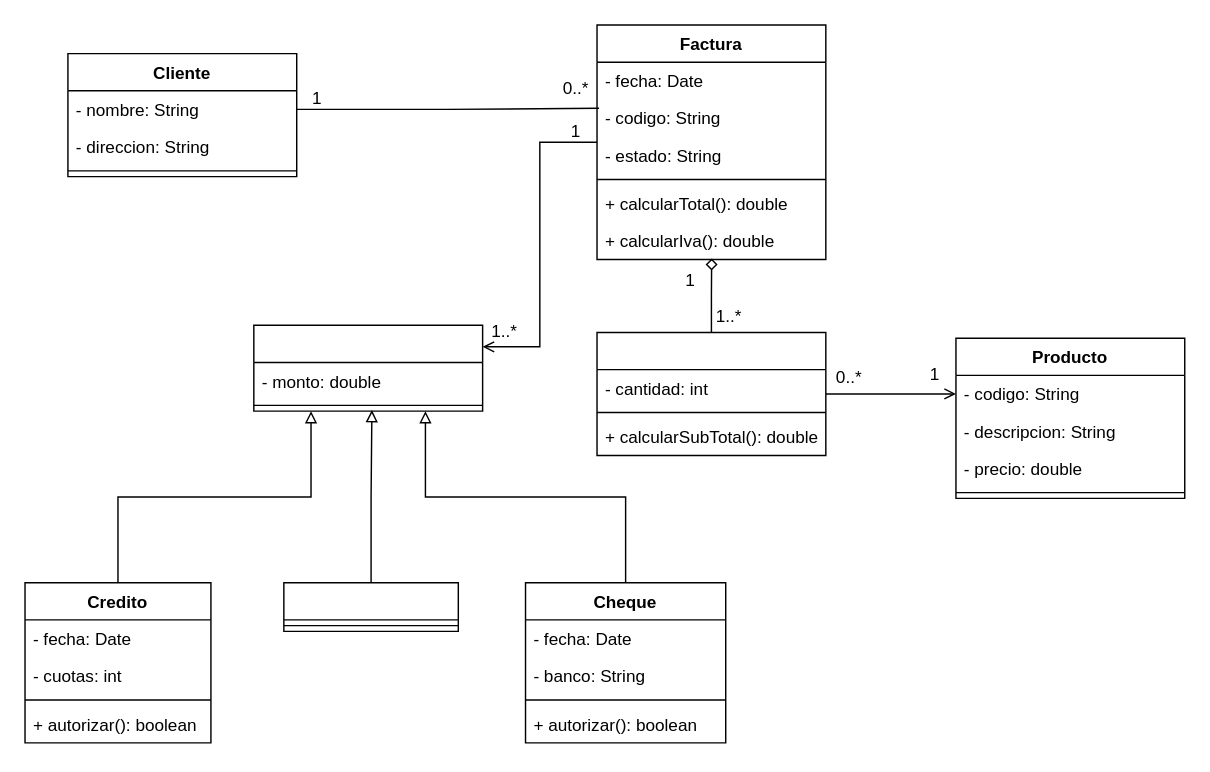
Image size: 1210x772. Some labels were removed from this diagram. The box of each missing label's shape, as (x1, y1, x2, y2) in pixels:
Efectivo: (282, 581, 458, 631)
ItemProducto: (596, 331, 826, 455)
Pago: (252, 324, 483, 411)
